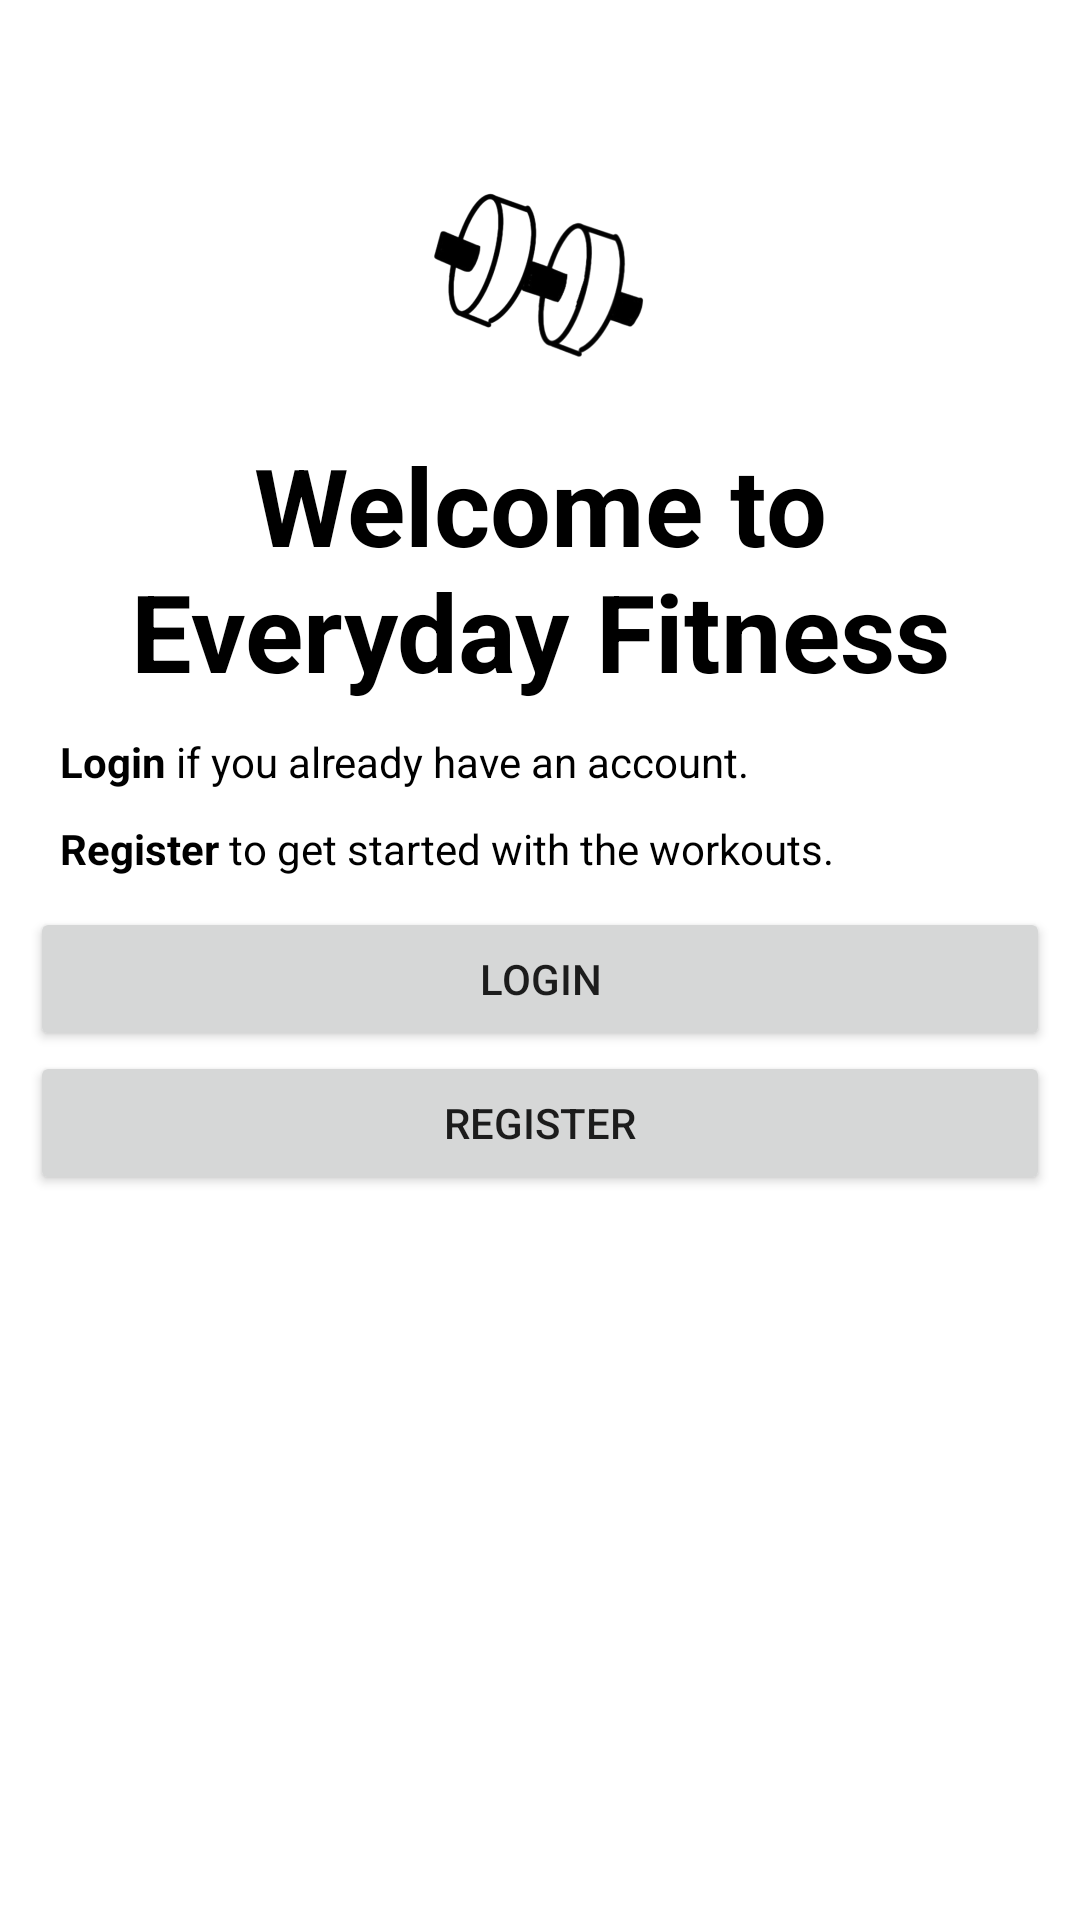

Screen size 1080w x 1920h. Icon name, then its center in pixels as (x,y):
App Icon: (538,275)
